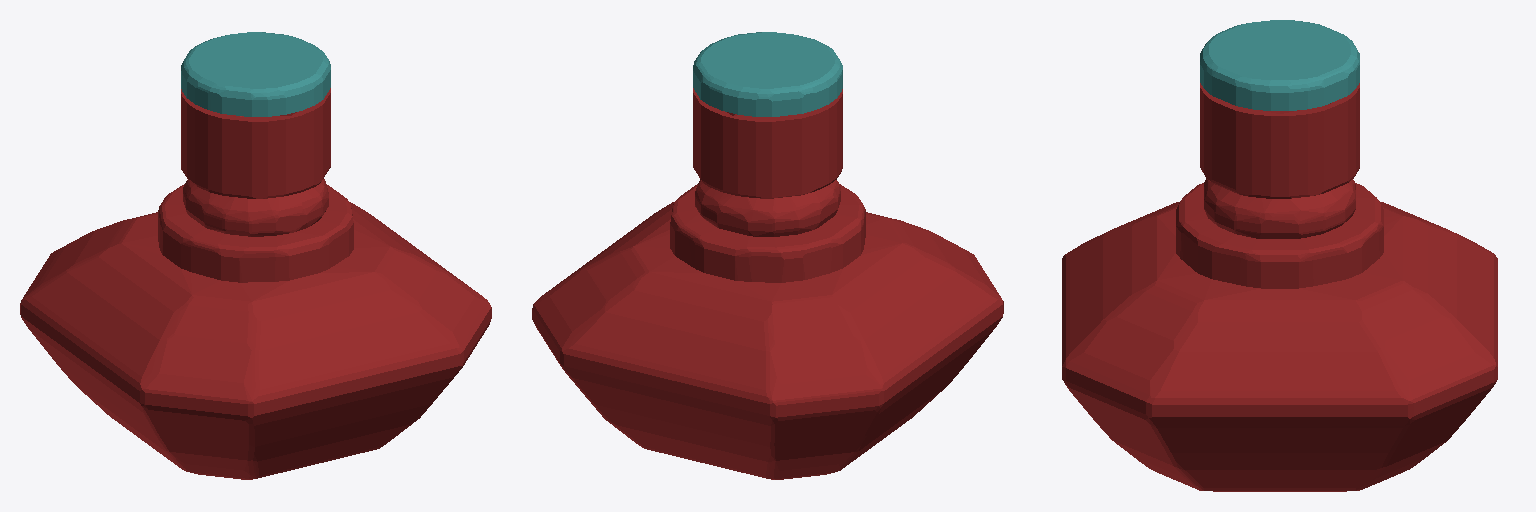
URDF robot description (root):
<robot name="root">
  <link name="bottle_body">
    <inertial>
      <origin xyz="0 0 0" rpy="0 0 0"/>
    </inertial>
    <mass value="1.00E-02"/>
    <visual>
      <origin xyz="0 0 0" rpy="0 0 0"/>
      <geometry>
        <mesh filename="core-bottle-30c6b5511ff09ac33526ea1c3de37e7-coacd_convex_piece_5.obj" scale="1.0000E-01 1.0000E-01 1.0000E-01"/>
      </geometry>
      <material name="">
        <color rgba="6.00E-01 2.00E-01 2.00E-01 1"/>
      </material>
    </visual>
    <collision>
      <origin xyz="0 0 0" rpy="0 0 0"/>
      <geometry>
        <mesh filename="core-bottle-30c6b5511ff09ac33526ea1c3de37e7-coacd_convex_piece_5.obj" scale="1.0000E-01 1.0000E-01 1.0000E-01"/>
      </geometry>
    </collision>
    <visual>
      <origin xyz="0 0 0" rpy="0 0 0"/>
      <geometry>
        <mesh filename="core-bottle-30c6b5511ff09ac33526ea1c3de37e7-coacd_convex_piece_7.obj" scale="1.0000E-01 1.0000E-01 1.0000E-01"/>
      </geometry>
      <material name="">
        <color rgba="6.00E-01 2.00E-01 2.00E-01 1"/>
      </material>
    </visual>
    <collision>
      <origin xyz="0 0 0" rpy="0 0 0"/>
      <geometry>
        <mesh filename="core-bottle-30c6b5511ff09ac33526ea1c3de37e7-coacd_convex_piece_7.obj" scale="1.0000E-01 1.0000E-01 1.0000E-01"/>
      </geometry>
    </collision>
    <visual>
      <origin xyz="0 0 0" rpy="0 0 0"/>
      <geometry>
        <mesh filename="core-bottle-30c6b5511ff09ac33526ea1c3de37e7-coacd_convex_piece_9.obj" scale="1.0000E-01 1.0000E-01 1.0000E-01"/>
      </geometry>
      <material name="">
        <color rgba="6.00E-01 2.00E-01 2.00E-01 1"/>
      </material>
    </visual>
    <collision>
      <origin xyz="0 0 0" rpy="0 0 0"/>
      <geometry>
        <mesh filename="core-bottle-30c6b5511ff09ac33526ea1c3de37e7-coacd_convex_piece_9.obj" scale="1.0000E-01 1.0000E-01 1.0000E-01"/>
      </geometry>
    </collision>
    <visual>
      <origin xyz="0 0 0" rpy="0 0 0"/>
      <geometry>
        <mesh filename="core-bottle-30c6b5511ff09ac33526ea1c3de37e7-coacd_convex_piece_11.obj" scale="1.0000E-01 1.0000E-01 1.0000E-01"/>
      </geometry>
      <material name="">
        <color rgba="6.00E-01 2.00E-01 2.00E-01 1"/>
      </material>
    </visual>
    <collision>
      <origin xyz="0 0 0" rpy="0 0 0"/>
      <geometry>
        <mesh filename="core-bottle-30c6b5511ff09ac33526ea1c3de37e7-coacd_convex_piece_11.obj" scale="1.0000E-01 1.0000E-01 1.0000E-01"/>
      </geometry>
    </collision>
    <visual>
      <origin xyz="0 0 0" rpy="0 0 0"/>
      <geometry>
        <mesh filename="core-bottle-30c6b5511ff09ac33526ea1c3de37e7-coacd_convex_piece_6.obj" scale="1.0000E-01 1.0000E-01 1.0000E-01"/>
      </geometry>
      <material name="">
        <color rgba="6.00E-01 2.00E-01 2.00E-01 1"/>
      </material>
    </visual>
    <collision>
      <origin xyz="0 0 0" rpy="0 0 0"/>
      <geometry>
        <mesh filename="core-bottle-30c6b5511ff09ac33526ea1c3de37e7-coacd_convex_piece_6.obj" scale="1.0000E-01 1.0000E-01 1.0000E-01"/>
      </geometry>
    </collision>
    <visual>
      <origin xyz="0 0 0" rpy="0 0 0"/>
      <geometry>
        <mesh filename="core-bottle-30c6b5511ff09ac33526ea1c3de37e7-coacd_convex_piece_4.obj" scale="1.0000E-01 1.0000E-01 1.0000E-01"/>
      </geometry>
      <material name="">
        <color rgba="6.00E-01 2.00E-01 2.00E-01 1"/>
      </material>
    </visual>
    <collision>
      <origin xyz="0 0 0" rpy="0 0 0"/>
      <geometry>
        <mesh filename="core-bottle-30c6b5511ff09ac33526ea1c3de37e7-coacd_convex_piece_4.obj" scale="1.0000E-01 1.0000E-01 1.0000E-01"/>
      </geometry>
    </collision>
    <visual>
      <origin xyz="0 0 0" rpy="0 0 0"/>
      <geometry>
        <mesh filename="core-bottle-30c6b5511ff09ac33526ea1c3de37e7-coacd_convex_piece_8.obj" scale="1.0000E-01 1.0000E-01 1.0000E-01"/>
      </geometry>
      <material name="">
        <color rgba="6.00E-01 2.00E-01 2.00E-01 1"/>
      </material>
    </visual>
    <collision>
      <origin xyz="0 0 0" rpy="0 0 0"/>
      <geometry>
        <mesh filename="core-bottle-30c6b5511ff09ac33526ea1c3de37e7-coacd_convex_piece_8.obj" scale="1.0000E-01 1.0000E-01 1.0000E-01"/>
      </geometry>
    </collision>
    <visual>
      <origin xyz="0 0 0" rpy="0 0 0"/>
      <geometry>
        <mesh filename="core-bottle-30c6b5511ff09ac33526ea1c3de37e7-coacd_convex_piece_3.obj" scale="1.0000E-01 1.0000E-01 1.0000E-01"/>
      </geometry>
      <material name="">
        <color rgba="6.00E-01 2.00E-01 2.00E-01 1"/>
      </material>
    </visual>
    <collision>
      <origin xyz="0 0 0" rpy="0 0 0"/>
      <geometry>
        <mesh filename="core-bottle-30c6b5511ff09ac33526ea1c3de37e7-coacd_convex_piece_3.obj" scale="1.0000E-01 1.0000E-01 1.0000E-01"/>
      </geometry>
    </collision>
    <visual>
      <origin xyz="0 0 0" rpy="0 0 0"/>
      <geometry>
        <mesh filename="core-bottle-30c6b5511ff09ac33526ea1c3de37e7-coacd_convex_piece_10.obj" scale="1.0000E-01 1.0000E-01 1.0000E-01"/>
      </geometry>
      <material name="">
        <color rgba="6.00E-01 2.00E-01 2.00E-01 1"/>
      </material>
    </visual>
    <collision>
      <origin xyz="0 0 0" rpy="0 0 0"/>
      <geometry>
        <mesh filename="core-bottle-30c6b5511ff09ac33526ea1c3de37e7-coacd_convex_piece_10.obj" scale="1.0000E-01 1.0000E-01 1.0000E-01"/>
      </geometry>
    </collision>
    <visual>
      <origin xyz="0 0 0" rpy="0 0 0"/>
      <geometry>
        <mesh filename="core-bottle-30c6b5511ff09ac33526ea1c3de37e7-coacd_convex_piece_1.obj" scale="1.0000E-01 1.0000E-01 1.0000E-01"/>
      </geometry>
      <material name="">
        <color rgba="6.00E-01 2.00E-01 2.00E-01 1"/>
      </material>
    </visual>
    <collision>
      <origin xyz="0 0 0" rpy="0 0 0"/>
      <geometry>
        <mesh filename="core-bottle-30c6b5511ff09ac33526ea1c3de37e7-coacd_convex_piece_1.obj" scale="1.0000E-01 1.0000E-01 1.0000E-01"/>
      </geometry>
    </collision>
    <visual>
      <origin xyz="0 0 0" rpy="0 0 0"/>
      <geometry>
        <mesh filename="core-bottle-30c6b5511ff09ac33526ea1c3de37e7-coacd_convex_piece_0.obj" scale="1.0000E-01 1.0000E-01 1.0000E-01"/>
      </geometry>
      <material name="">
        <color rgba="6.00E-01 2.00E-01 2.00E-01 1"/>
      </material>
    </visual>
    <collision>
      <origin xyz="0 0 0" rpy="0 0 0"/>
      <geometry>
        <mesh filename="core-bottle-30c6b5511ff09ac33526ea1c3de37e7-coacd_convex_piece_0.obj" scale="1.0000E-01 1.0000E-01 1.0000E-01"/>
      </geometry>
    </collision>
  </link>
  <link name="bottle_cap">
    <origin xyz="0 0 0.002" rpy="0 0 0"/>
    <mass value="1.00E-02"/>
    <visual>
      <origin xyz="0 0 0.002" rpy="0 0 0"/>
      <geometry>
        <mesh filename="core-bottle-30c6b5511ff09ac33526ea1c3de37e7-coacd_convex_piece_2.obj" scale="1.0000E-01 1.0000E-01 1.0000E-01"/>
      </geometry>
      <material name="">
        <color rgba="3.00E-01 6.00E-01 6.00E-01 1"/>
      </material>
    </visual>
    <collision>
      <origin xyz="0 0 0.002" rpy="0 0 0"/>
      <geometry>
        <mesh filename="core-bottle-30c6b5511ff09ac33526ea1c3de37e7-coacd_convex_piece_2.obj" scale="1.0000E-01 1.0000E-01 1.0000E-01"/>
      </geometry>
    </collision>
  </link>
  <joint name="bottle_cap_joint" type="revolute">
    <origin xyz="0 0 0" rpy="0 0 0"/>
    <parent link="bottle_body"/>
    <child link="bottle_cap"/>
    <axis xyz="0 0 1"/>
    <limit lower="0.00" upper="6.28"/>
    <dynamics damping="0.05"/>
  </joint>
</robot>

--- Render facts (derived) ---
Views: 3 orthographic renders of the robot side by side, from view 1: azimuth 30°, elevation 25°; view 2: azimuth 150°, elevation 25°; view 3: azimuth 270°, elevation 25°.
Model root with 2 links and 1 joints (1 revolute), rooted at bottle_body, posed every joint at zero.
Visible links, largest first — view 1: bottle_body, bottle_cap; view 2: bottle_body, bottle_cap; view 3: bottle_body, bottle_cap.
Link boxes in pixels (left/top/right/bottom): bottle_body: left=20, top=88, right=491, bottom=479; bottle_cap: left=181, top=32, right=330, bottom=116; bottle_body: left=532, top=88, right=1003, bottom=479; bottle_cap: left=693, top=32, right=842, bottom=116; bottle_body: left=1062, top=83, right=1497, bottom=491; bottle_cap: left=1200, top=20, right=1359, bottom=110.
Bounding box of the posed robot: 0.1605 × 0.1605 × 0.1625 m (x, y, z).
Meshes: 12 distinct files referenced, 12 mesh visuals loaded (12 OBJ).